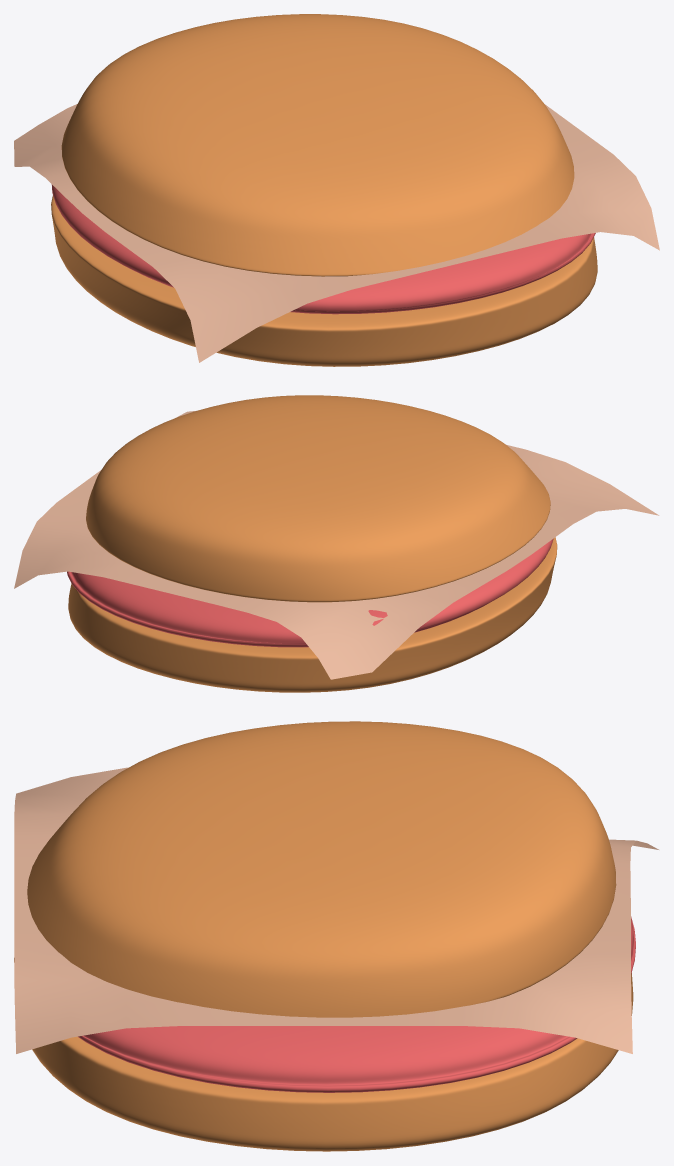
File: hamburger.glb
The picture shows the model from 3 angles, top to bottom: view 1: azimuth 30°, elevation 25°; view 2: azimuth 150°, elevation 25°; view 3: azimuth 270°, elevation 25°; orthographic projection. The views are drawn at different scales.
Parts seen in each view (by area): view 1: Cube.002, Cube, Plane, Cube.001; view 2: Cube.002, Plane, Cube, Cube.001; view 3: Cube.002, Plane, Cube, Cube.001.
Part boxes in pixels (<box>): Cube.002: <box>61,14,574,276</box>; Cube: <box>51,195,597,366</box>; Plane: <box>14,104,659,362</box>; Cube.001: <box>51,184,595,314</box>; Cube.002: <box>86,395,550,602</box>; Plane: <box>14,410,659,679</box>; Cube: <box>68,537,557,692</box>; Cube.001: <box>67,538,553,647</box>; Cube.002: <box>27,721,616,1017</box>; Plane: <box>14,767,658,1053</box>; Cube: <box>14,958,633,1151</box>; Cube.001: <box>78,916,635,1092</box>.
Bounding box in the file's own units: 9.72 × 3.64 × 9.52.
